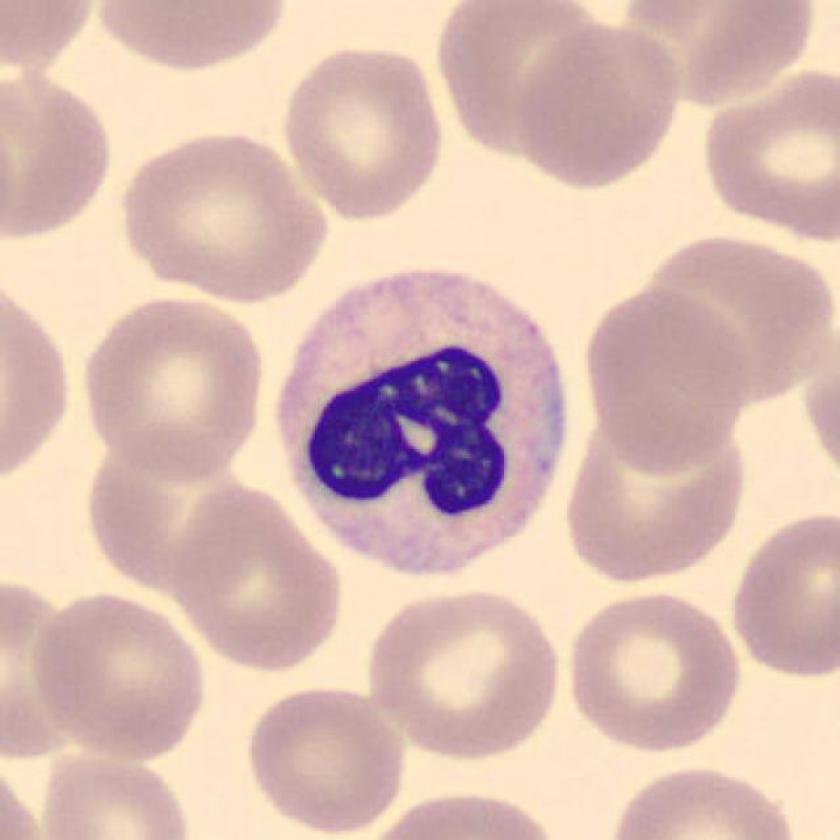neutrophil: (277, 272, 566, 575)
